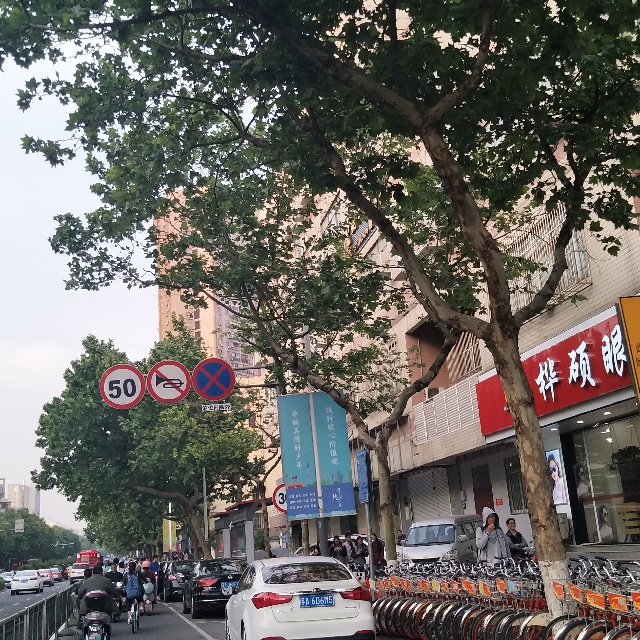nohonk: (147, 360, 192, 404)
stop: (192, 357, 235, 401)
